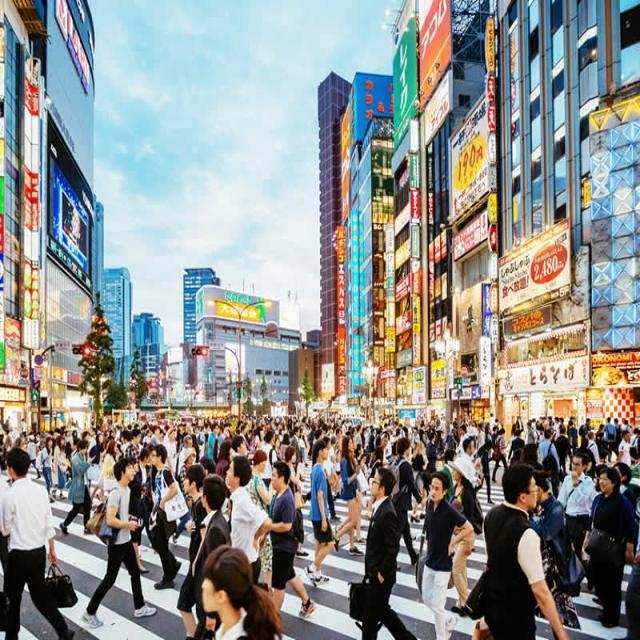body: (0, 404, 640, 457), (481, 461, 569, 640), (0, 446, 78, 639), (79, 456, 158, 630), (346, 464, 419, 639), (413, 466, 474, 639), (580, 466, 636, 632), (260, 460, 318, 620), (198, 546, 283, 639), (526, 469, 587, 592), (190, 474, 233, 639), (223, 454, 274, 593), (595, 459, 636, 626), (445, 454, 485, 616), (176, 463, 210, 640), (387, 436, 427, 574), (152, 444, 190, 589), (556, 450, 598, 567), (306, 438, 336, 590), (331, 436, 366, 557), (247, 448, 275, 590), (58, 438, 98, 536), (283, 444, 310, 557), (171, 446, 197, 545), (137, 447, 160, 555), (162, 426, 179, 513), (34, 435, 56, 496), (51, 435, 70, 500), (88, 433, 106, 501), (553, 423, 573, 477), (491, 427, 509, 484), (538, 428, 560, 474), (480, 440, 494, 504), (178, 435, 198, 475), (100, 438, 119, 480), (506, 429, 526, 465), (460, 436, 476, 468), (119, 428, 131, 458)
